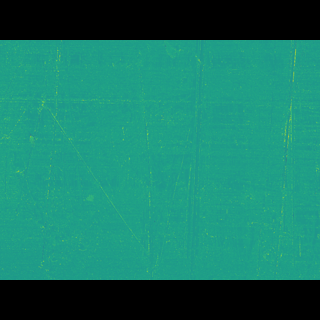Loch: (0, 85, 319, 241), (238, 70, 301, 246), (6, 79, 66, 236), (174, 69, 207, 248)
